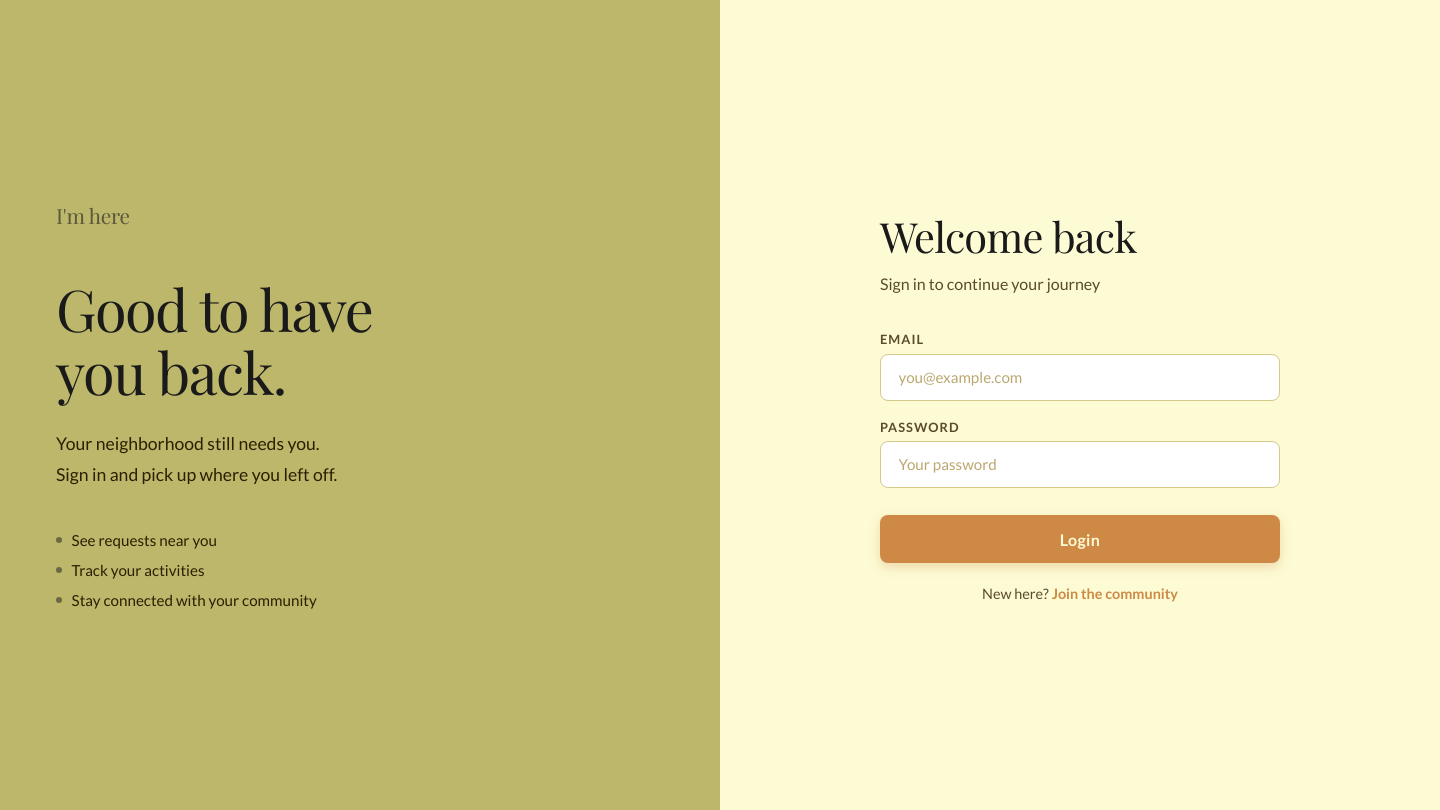
Test case: Login page › displays an error message when login fails
Type "bad@test.com" into the field labelled "Email" at (1080,377), box [880,354,1280,401]
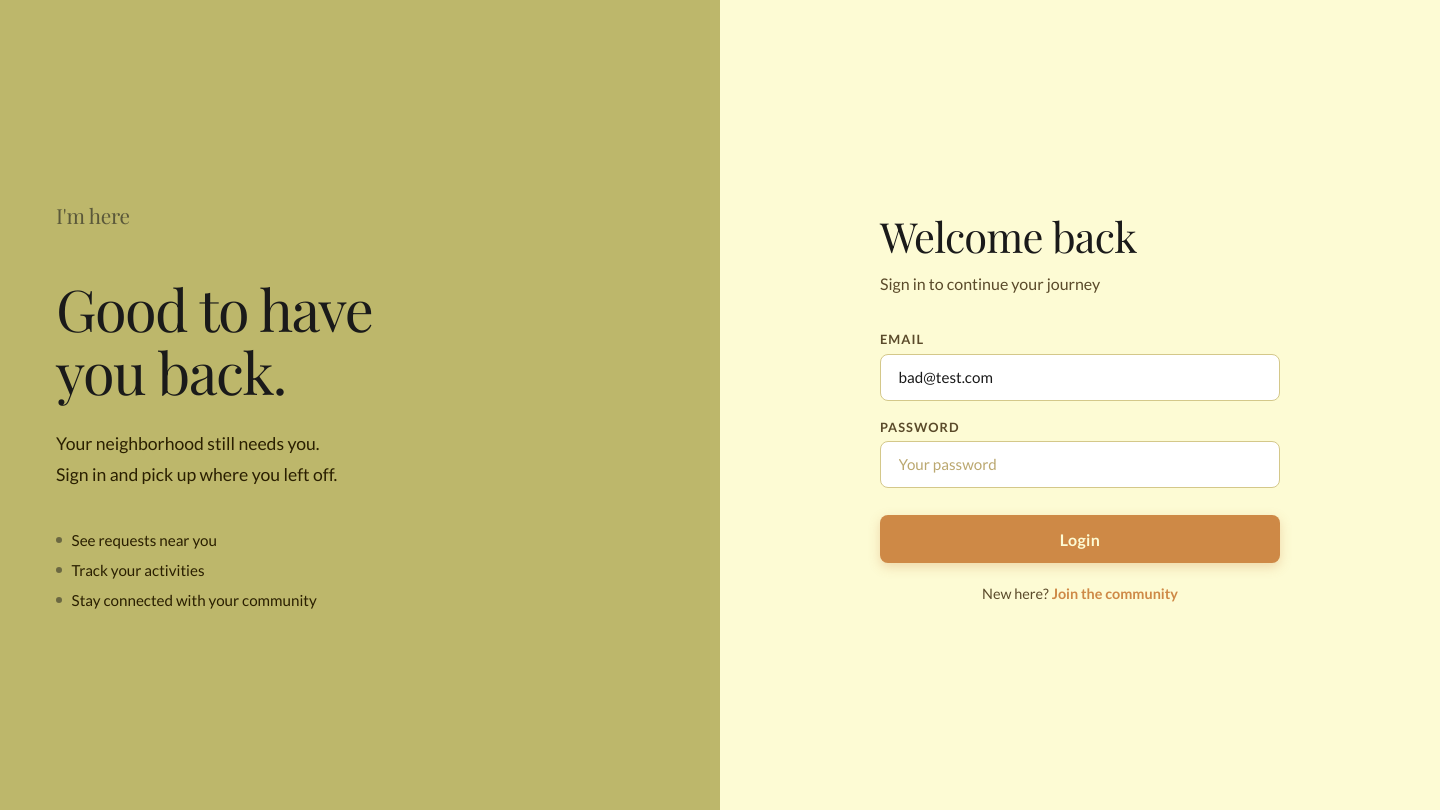
Type "wrong" into the password field labelled "Password" at (1080,464), box [880,441,1280,488]
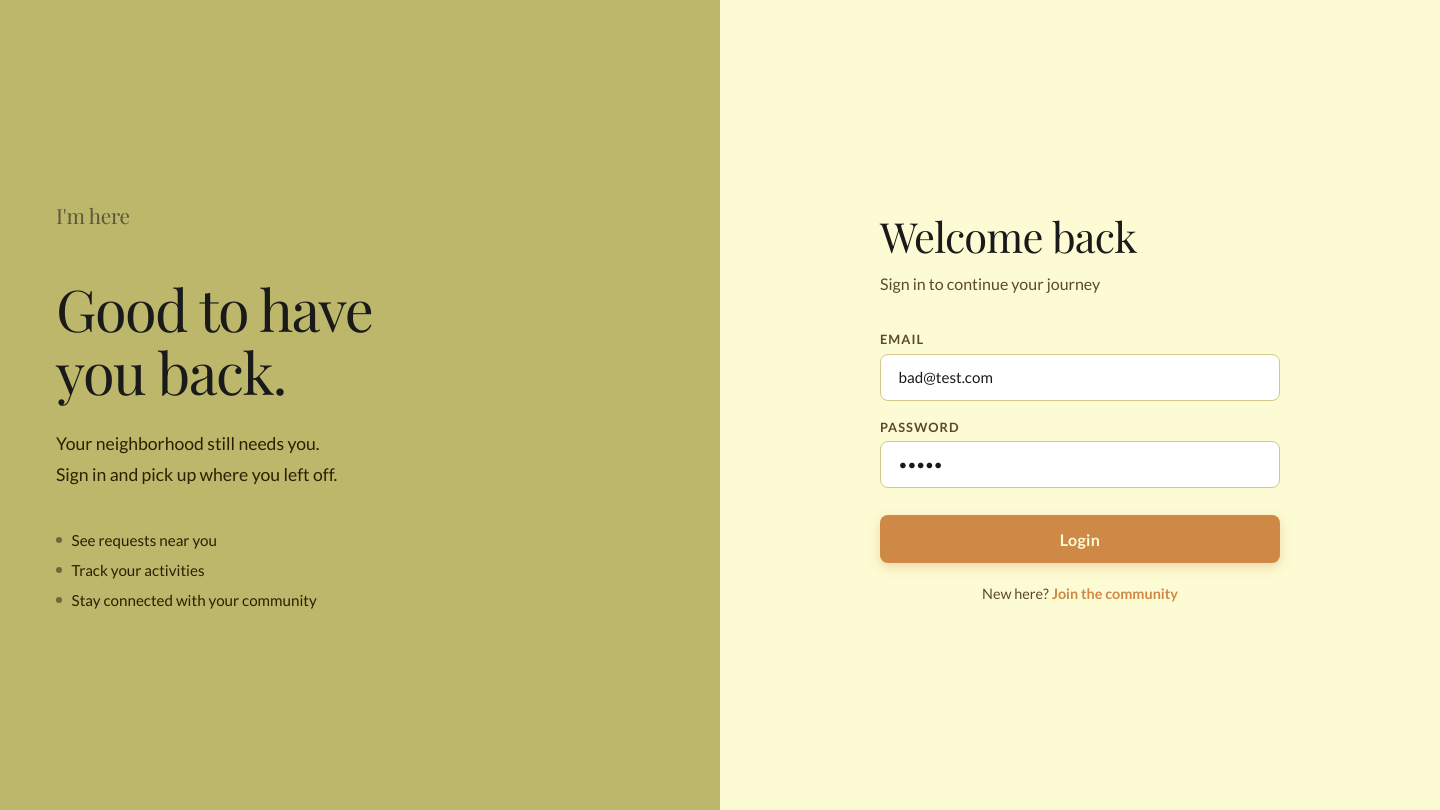
Click the button "Login" at (1080,539), box [880,515,1280,563]
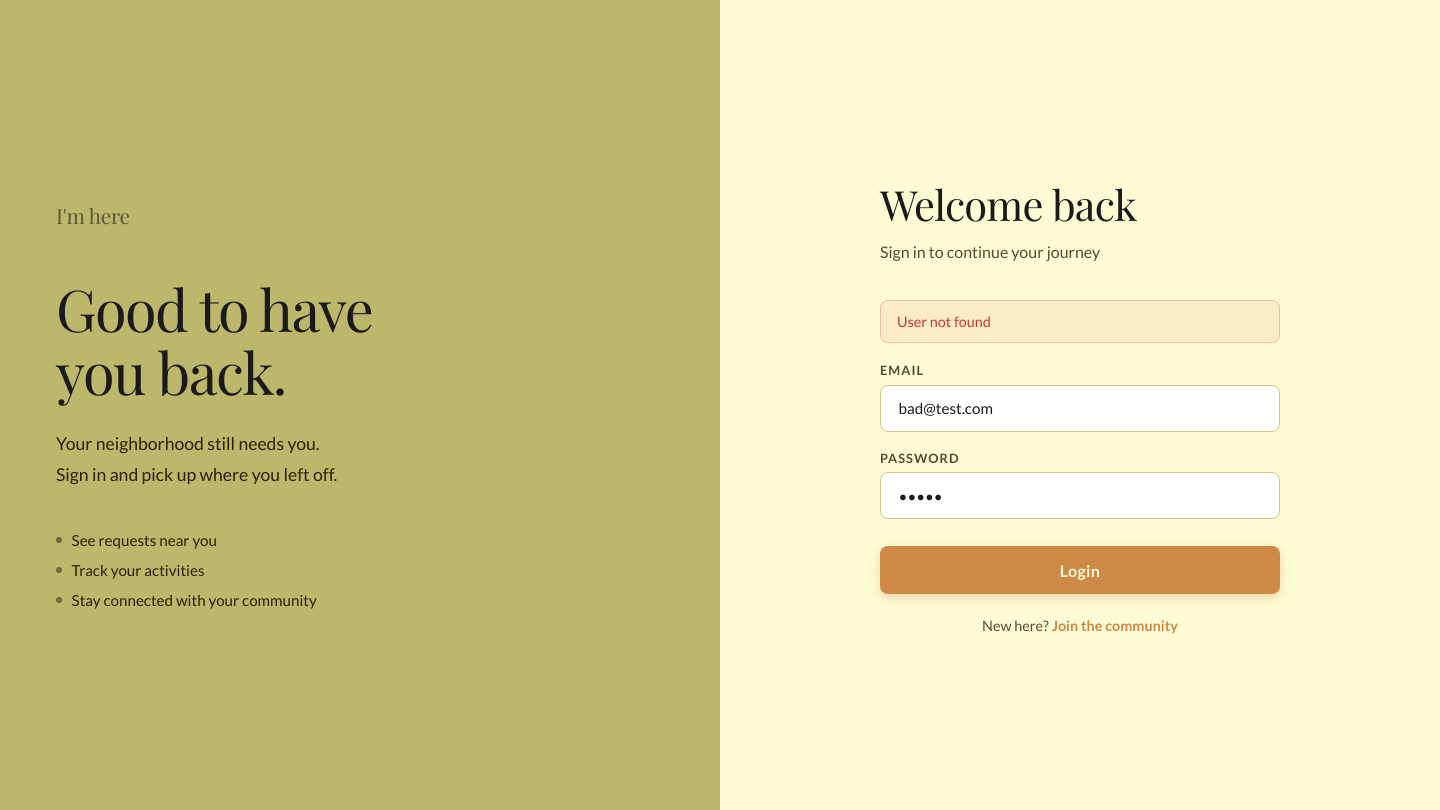
expect the text "User not found" is shown: met, box [880,300,1280,343]
